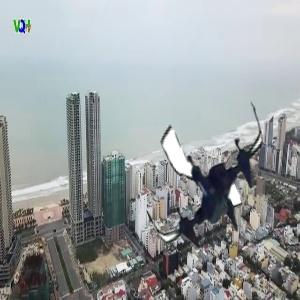drone: (130, 98, 283, 251)
